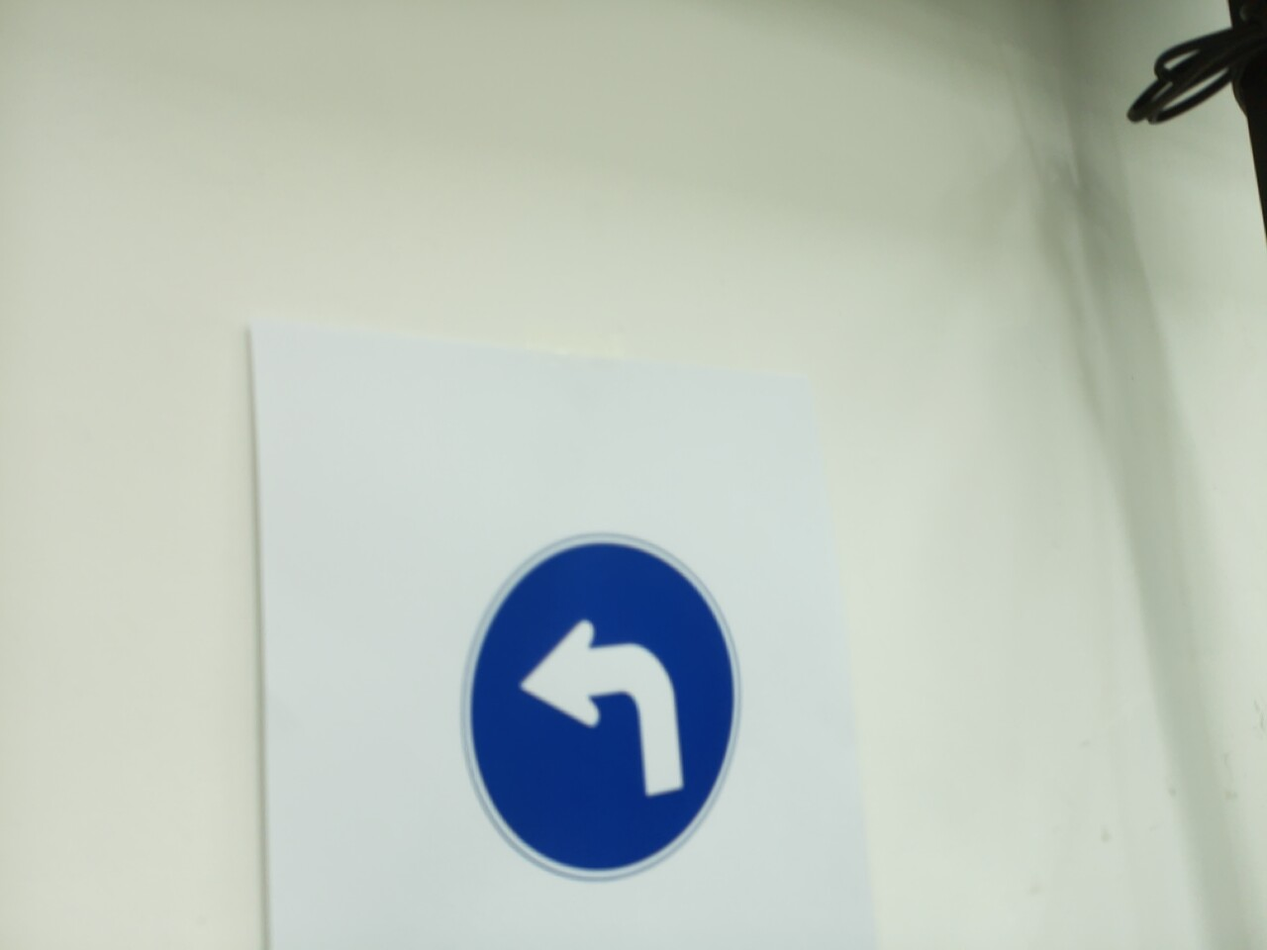left_turn: (461, 533, 743, 881)
